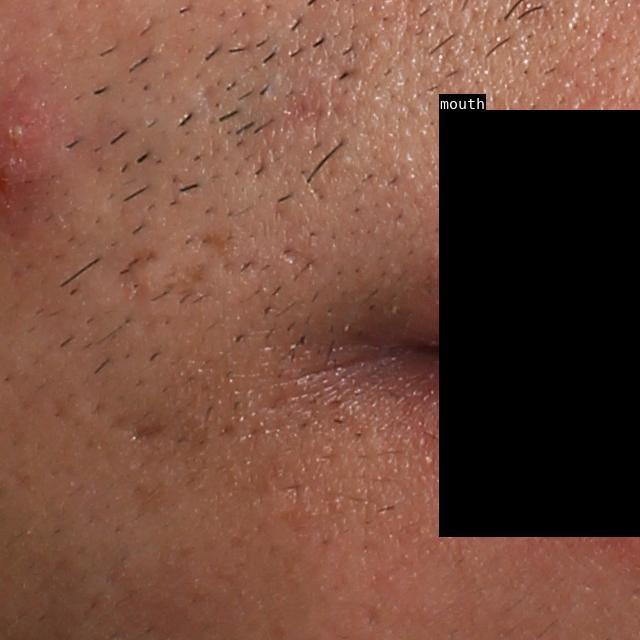atrophic_scar: (86, 392, 196, 495), (246, 69, 355, 172), (190, 216, 265, 279), (274, 205, 321, 286), (108, 241, 152, 312), (166, 265, 218, 308)
